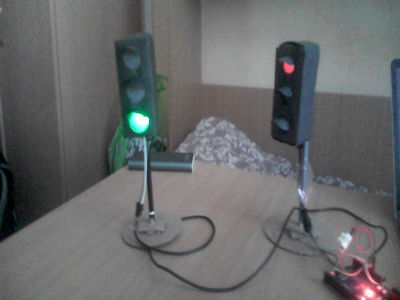trafficlight_green: (118, 41, 157, 136)
trafficlight_red: (270, 42, 304, 140)
